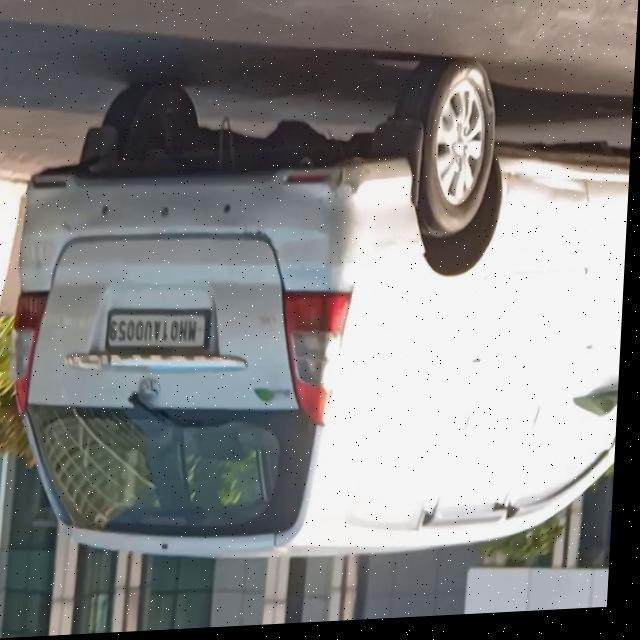plate: (107, 304, 216, 358)
